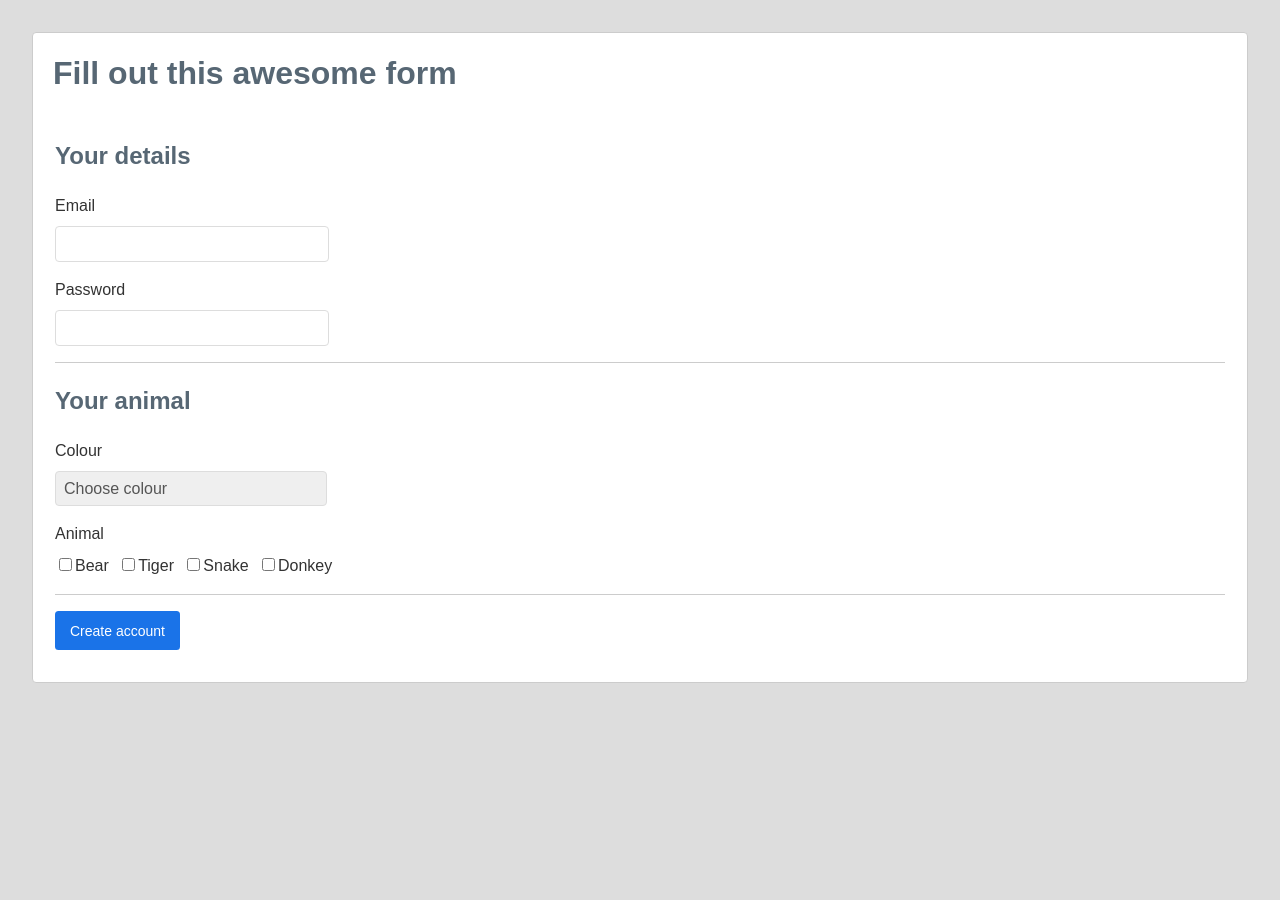
Form validation and error handling › should show an error message when the entered email is not a valid email address
The image size is (1280, 900).
Type "incompleteemail" into the field labelled "Email" at (192, 244), box [55,226,329,262]
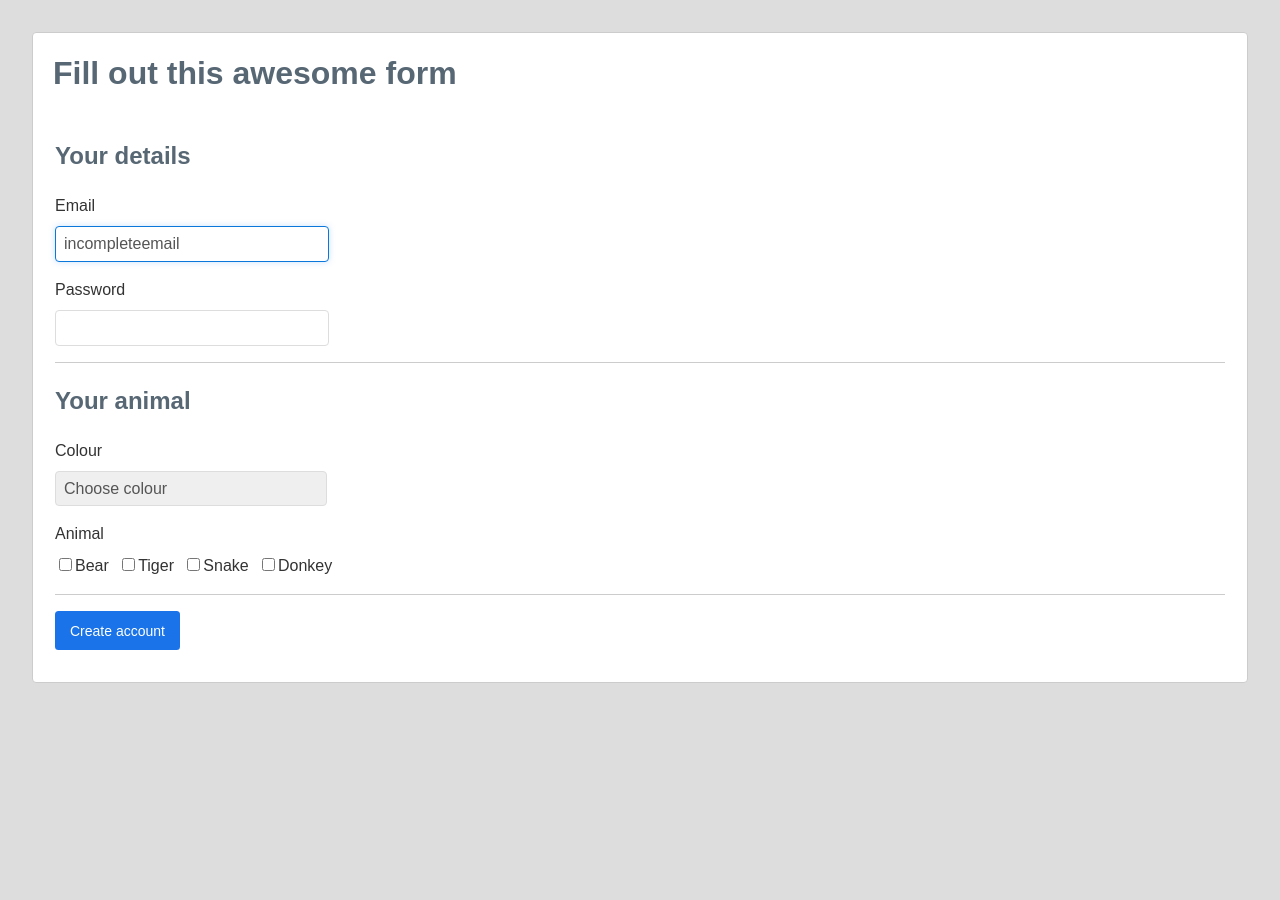
Click the button with test id "submit-button" at (118, 631), box [55,611,180,650]
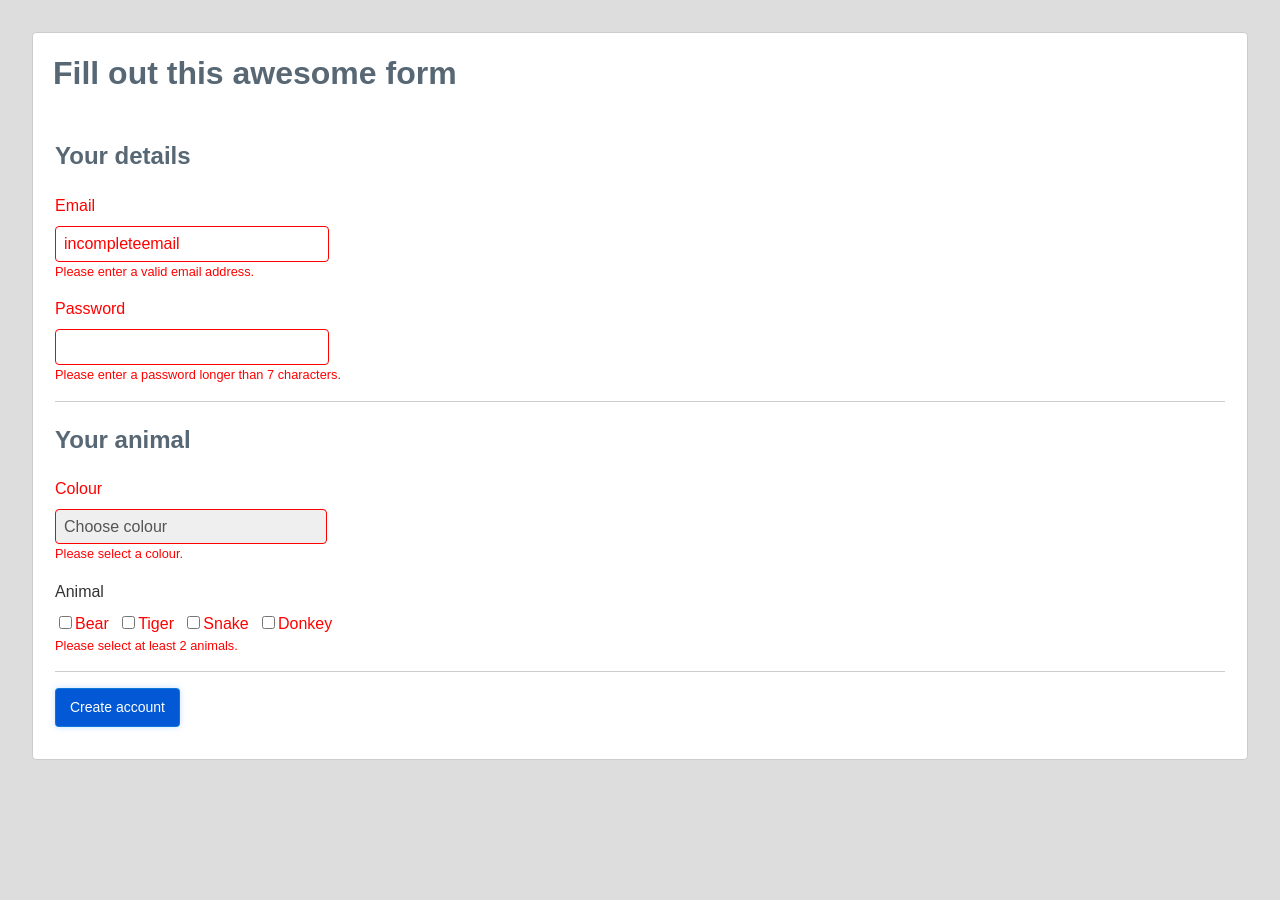
Expected: the text "Please enter a valid email address." is shown, [55,264,254,279]
